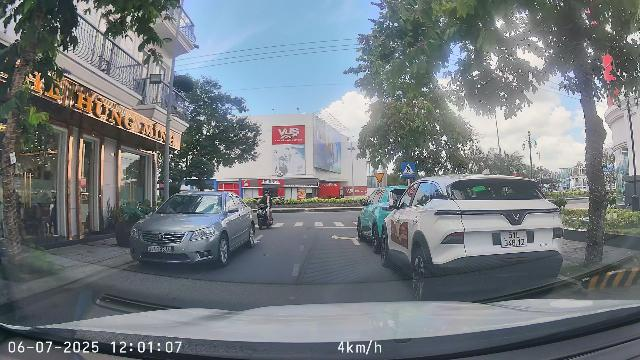208-giao-nhau-voi-duong-uu-tien: (374, 173, 384, 183)
423a-duong-nguoi-di-bo-sang-ngang-1: (402, 162, 416, 177)
